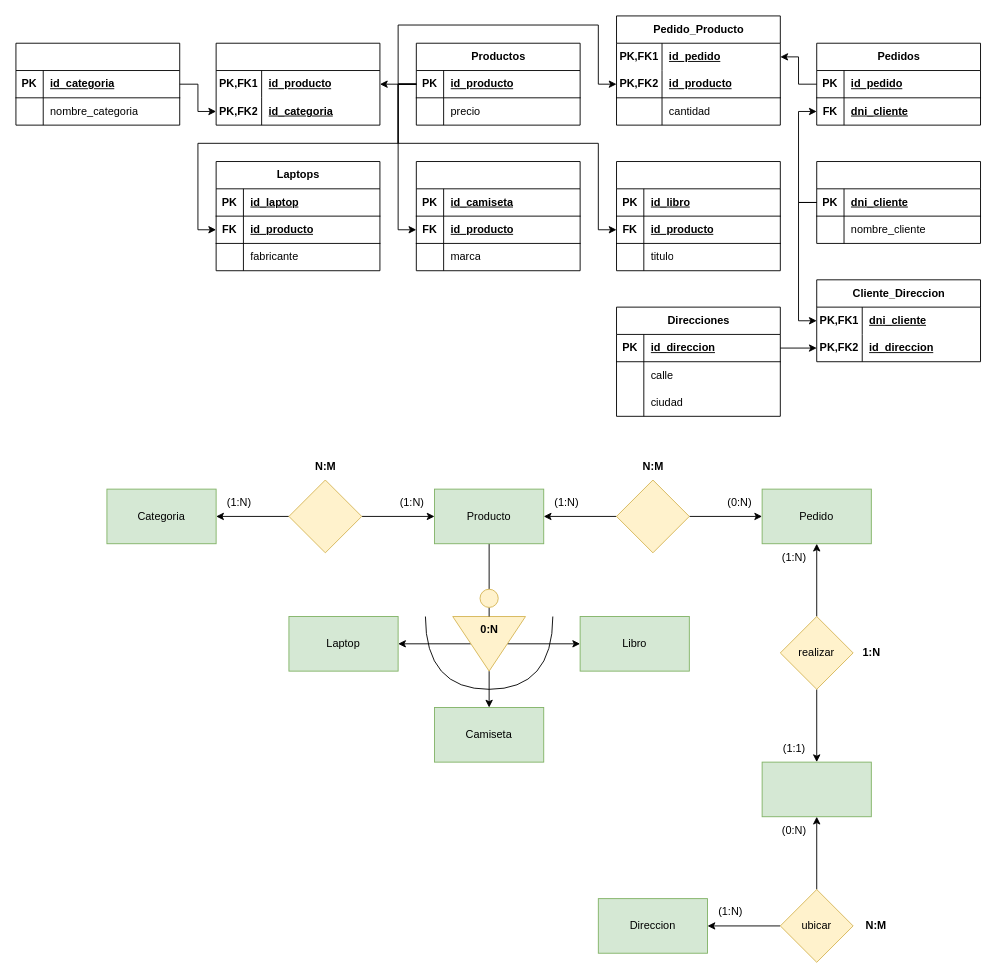
Some shapes in this 996 by 978 pixel diagram are drawn without their labels. Here are the shapes that lost their labels. From the top down, the box of each, then its label:
(15, 42, 180, 125): Categorias
(215, 42, 380, 125): Producto_Categoria
(415, 161, 580, 271): Camisetas
(616, 161, 780, 271): Libros
(816, 161, 981, 243): Clientes
(288, 479, 362, 553): pertenecer
(616, 479, 689, 553): registrar
(761, 761, 871, 817): Cliente
